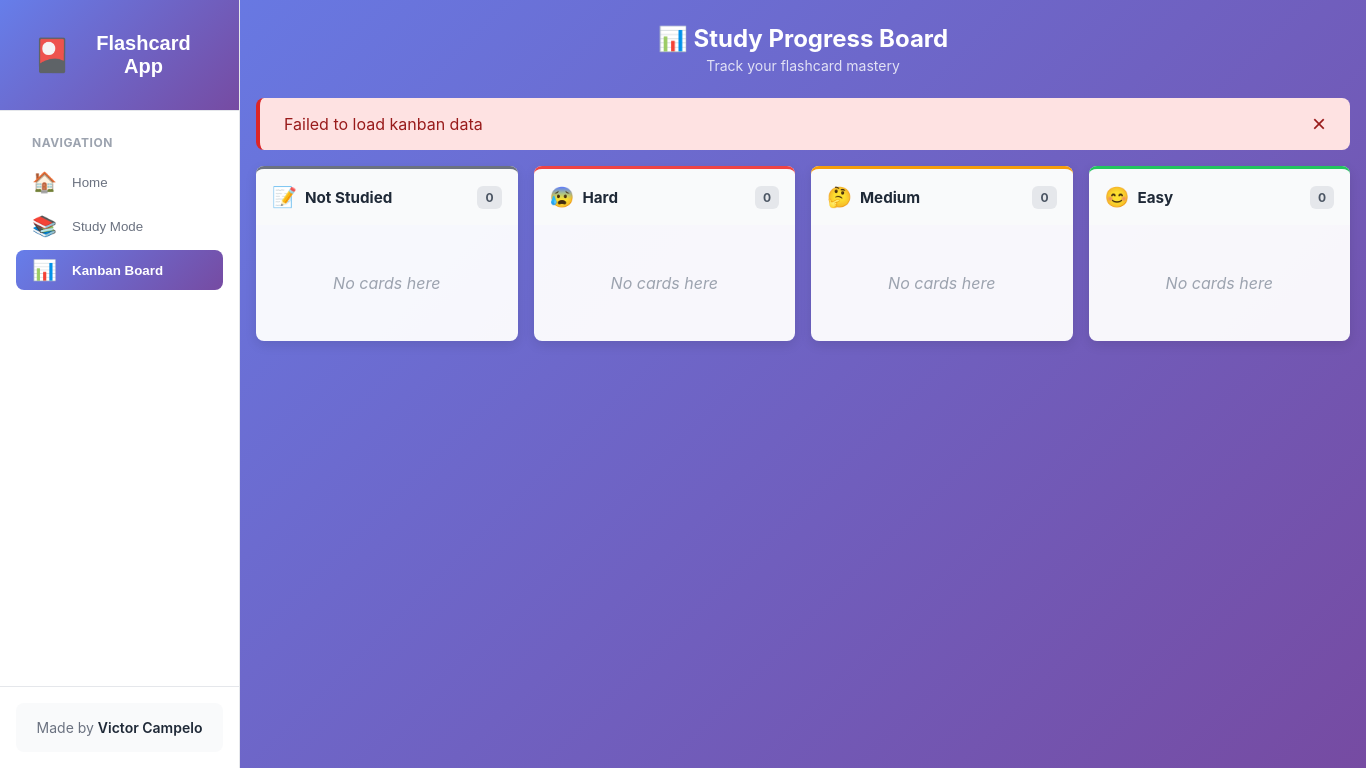
Scenario: Kanban › Error Handling › can dismiss error message
The image size is (1366, 768).
expect the text "Failed to load kanban data" is shown: met, box [284,114,483,134]
Click the button "×". click: {"x": 1319, "y": 124}
box: [1304,109,1334,139]
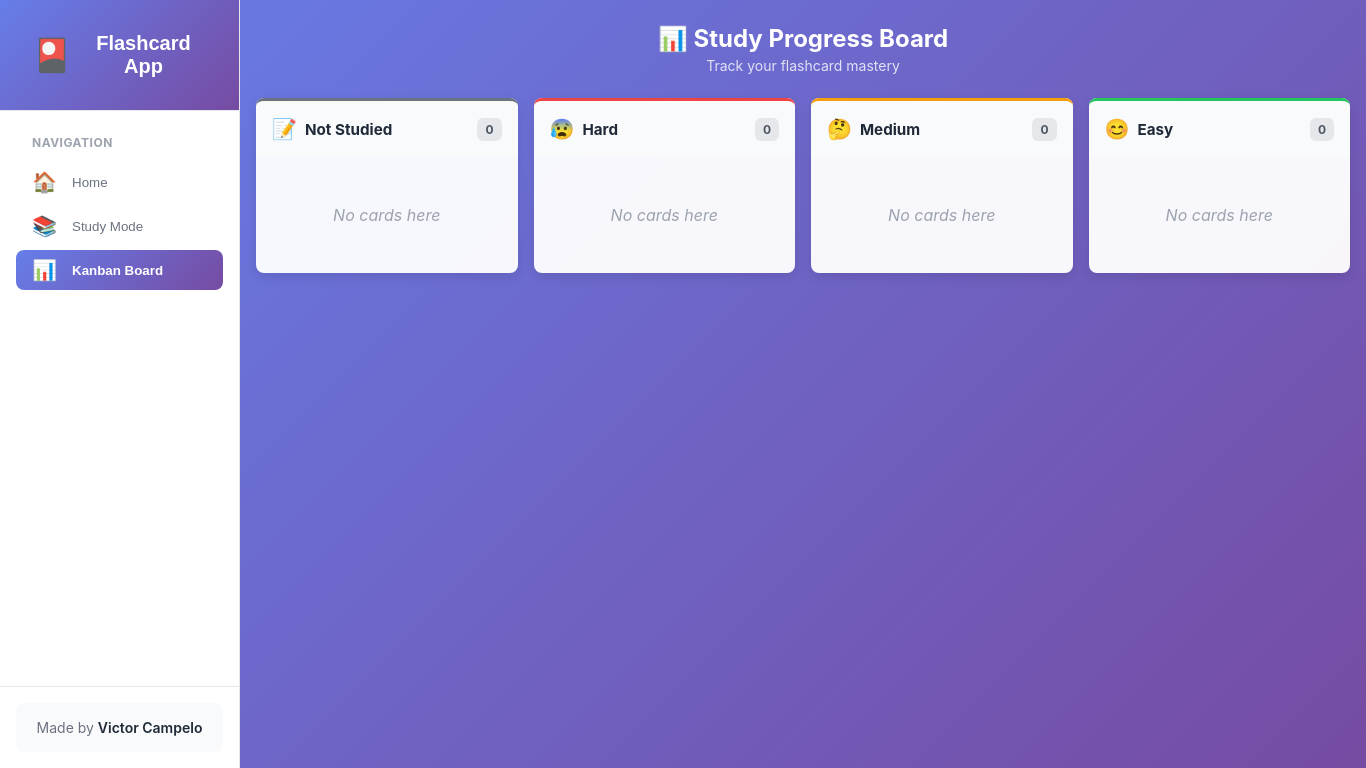
expect the text "Failed to load kanban data" is gone: met
